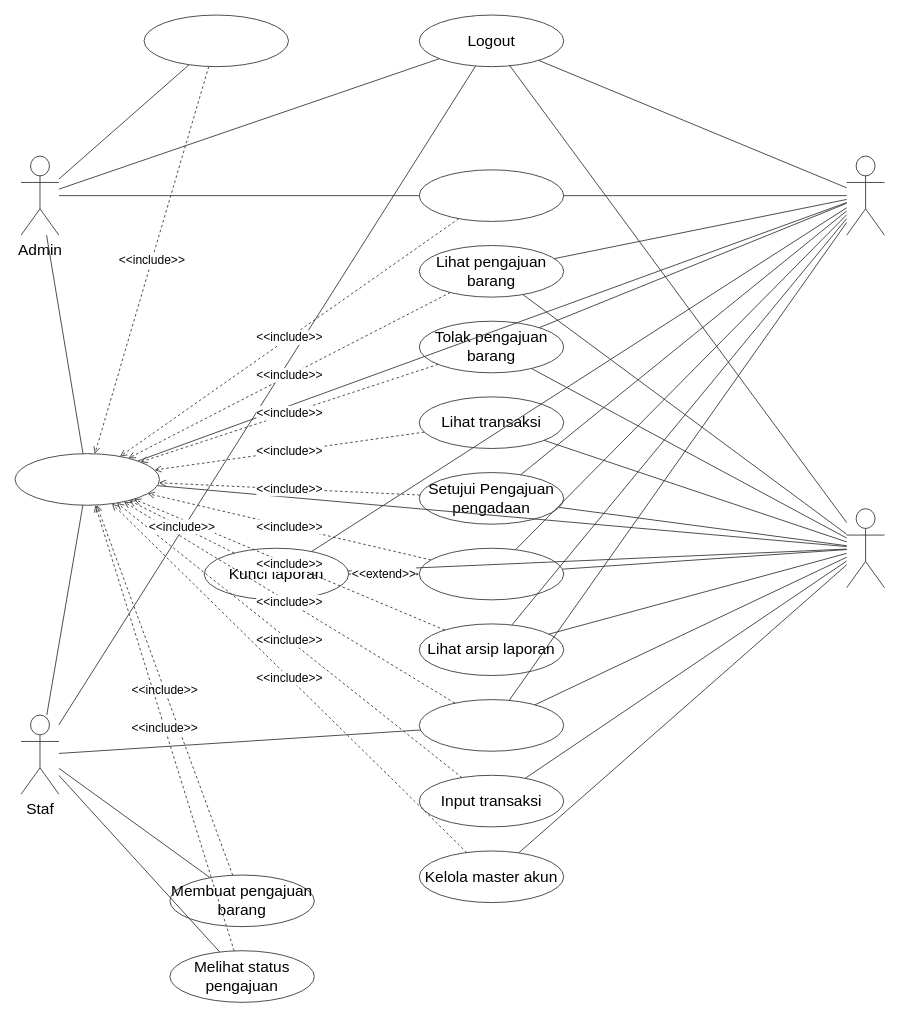
Some shapes in this 911 by 1017 pixel diagram are drawn without their labels. Each missing label, with the centre of its shape:
Activity log: pixel 491 195
Ekspor pengajuan CSV: pixel 491 725
Kelola data pengguna: pixel 216 40
Lihat laporan keuangan: pixel 491 573
Login: pixel 87 479
Manager: pixel 865 548
Owner: pixel 865 195
